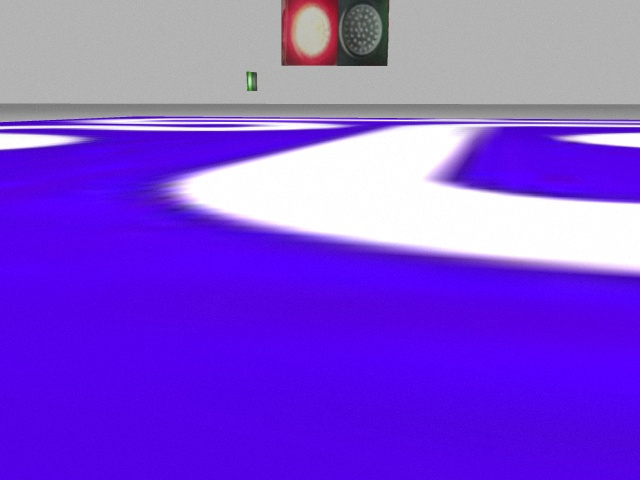red: (283, 1, 334, 61)
